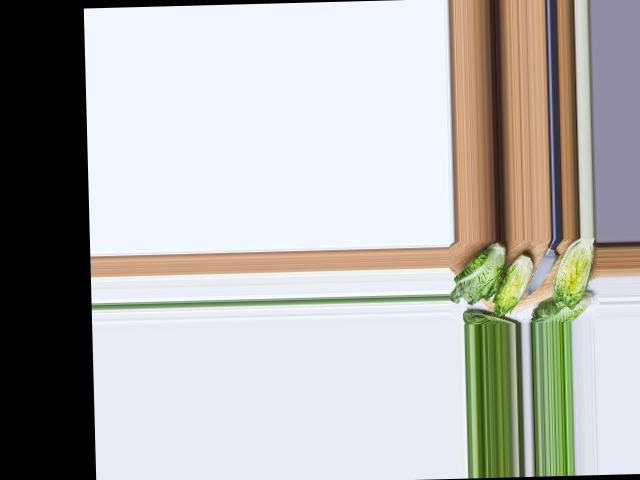lettuce: (531, 292, 593, 320)
